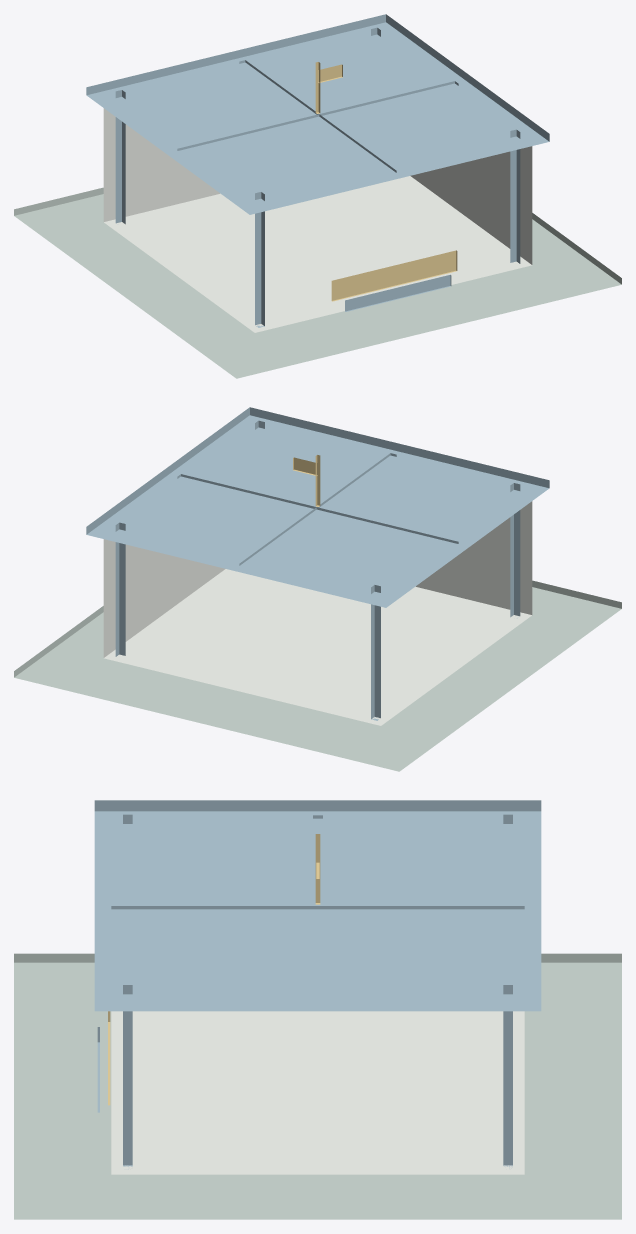
File: city_hall.glb
3 views of the same model, one above another, from view 1: azimuth 30°, elevation 25°; view 2: azimuth 150°, elevation 25°; view 3: azimuth 270°, elevation 25° (orthographic). The views are drawn at different scales.
Visible parts, largest first — view 1: Roof, Walls, Foundation, Frame, Details; view 2: Roof, Walls, Foundation, Frame, Details; view 3: Roof, Foundation, Walls, Frame, Details.
Part boxes in pixels (left/top/right/bottom): Roof: left=86, top=14, right=549, bottom=214; Walls: left=103, top=108, right=532, bottom=332; Foundation: left=14, top=187, right=621, bottom=378; Frame: left=115, top=27, right=520, bottom=327; Details: left=315, top=62, right=457, bottom=311; Roof: left=86, top=407, right=549, bottom=607; Walls: left=103, top=501, right=532, bottom=725; Foundation: left=14, top=580, right=621, bottom=771; Frame: left=115, top=420, right=520, bottom=720; Details: left=293, top=455, right=320, bottom=506; Roof: left=94, top=800, right=541, bottom=1011; Foundation: left=14, top=953, right=621, bottom=1219; Walls: left=111, top=1011, right=524, bottom=1174; Frame: left=111, top=814, right=524, bottom=1169; Details: left=97, top=834, right=320, bottom=1112.
Bounding box in the file's own units: 40 × 18.6 × 40.
